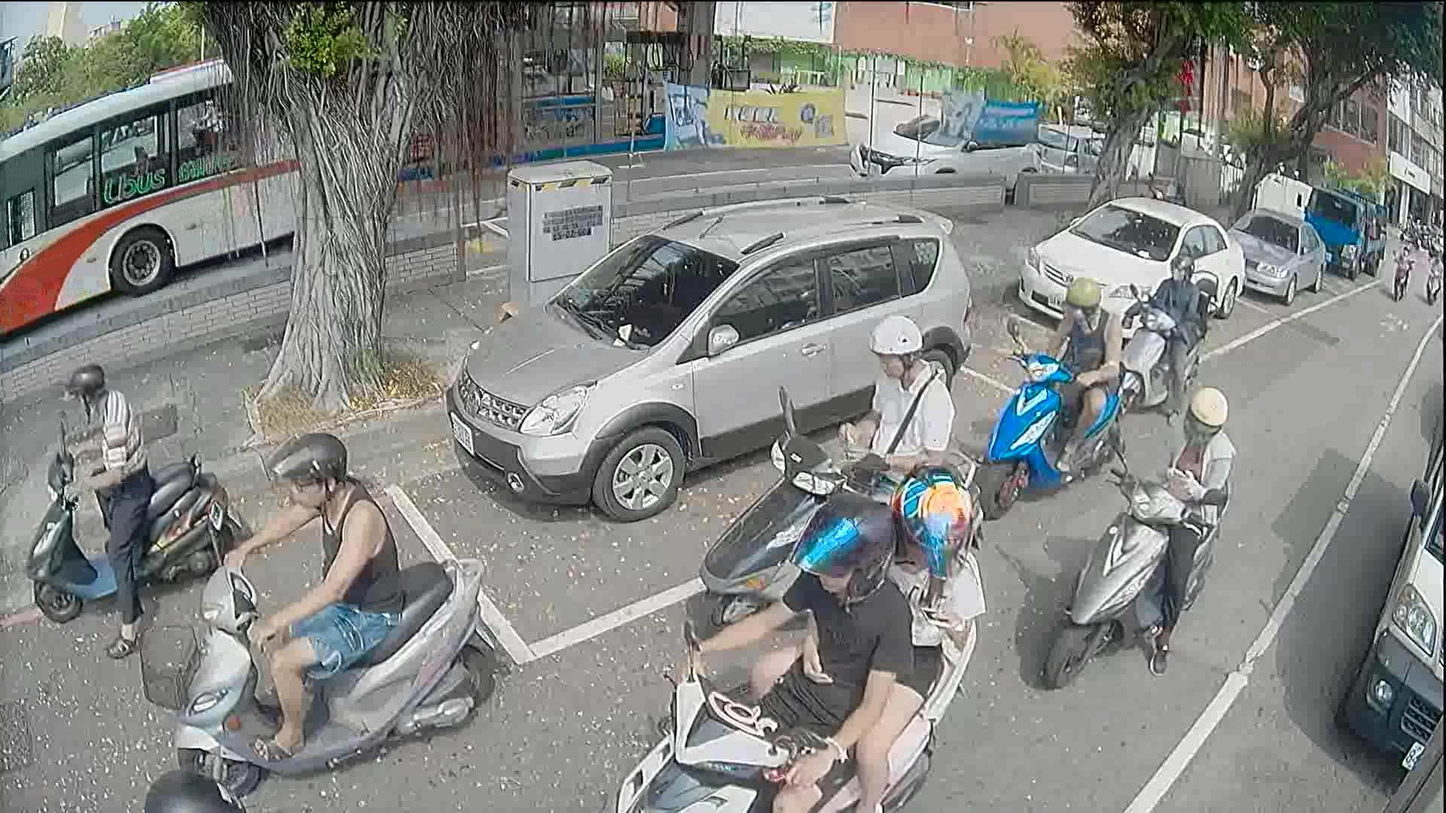person: (641, 506, 931, 812), (752, 466, 978, 808), (214, 423, 403, 769), (1130, 376, 1228, 676), (55, 363, 153, 649), (831, 315, 947, 510), (1022, 263, 1118, 474), (1144, 254, 1214, 421), (142, 751, 246, 812), (1429, 251, 1443, 275), (1396, 244, 1409, 263)
